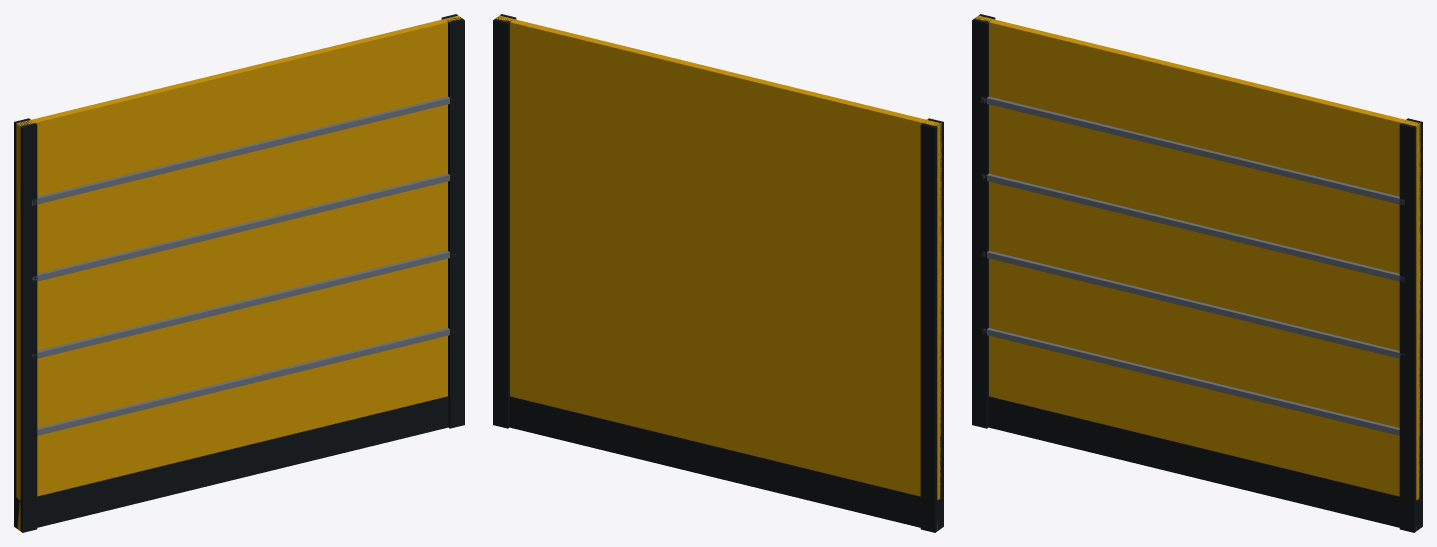
3 renders of one model, left to right at view 1: azimuth 30°, elevation 25°; view 2: azimuth 150°, elevation 25°; view 3: azimuth 330°, elevation 25°, orthographic.
Parts seen in each view (by area): view 1: panel, kick-plate, post:-1, post:1, bar:3, bar:2, bar:1, bar:0; view 2: panel, kick-plate, post:-1, post:1; view 3: panel, kick-plate, post:1, post:-1, bar:3, bar:2, bar:1, bar:0.
Part boxes in pixels (<box>): panel: <box>16,15,461,530</box>; kick-plate: <box>15,396,448,531</box>; post:-1: <box>14,118,37,532</box>; post:1: <box>441,14,464,428</box>; bar:3: <box>32,96,451,205</box>; bar:2: <box>32,173,452,281</box>; bar:1: <box>32,251,450,358</box>; bar:0: <box>37,328,453,435</box>; panel: <box>496,15,941,530</box>; kick-plate: <box>509,396,942,531</box>; post:-1: <box>920,118,943,532</box>; post:1: <box>493,14,516,428</box>; panel: <box>975,15,1420,527</box>; kick-plate: <box>988,396,1421,531</box>; post:1: <box>1399,118,1422,532</box>; post:-1: <box>972,14,995,428</box>; bar:3: <box>981,96,1404,205</box>; bar:2: <box>981,173,1404,282</box>; bar:1: <box>981,251,1404,358</box>; bar:0: <box>981,328,1399,435</box>.
Size of the model in its own units: 2.4 by 2.1 by 0.08.
